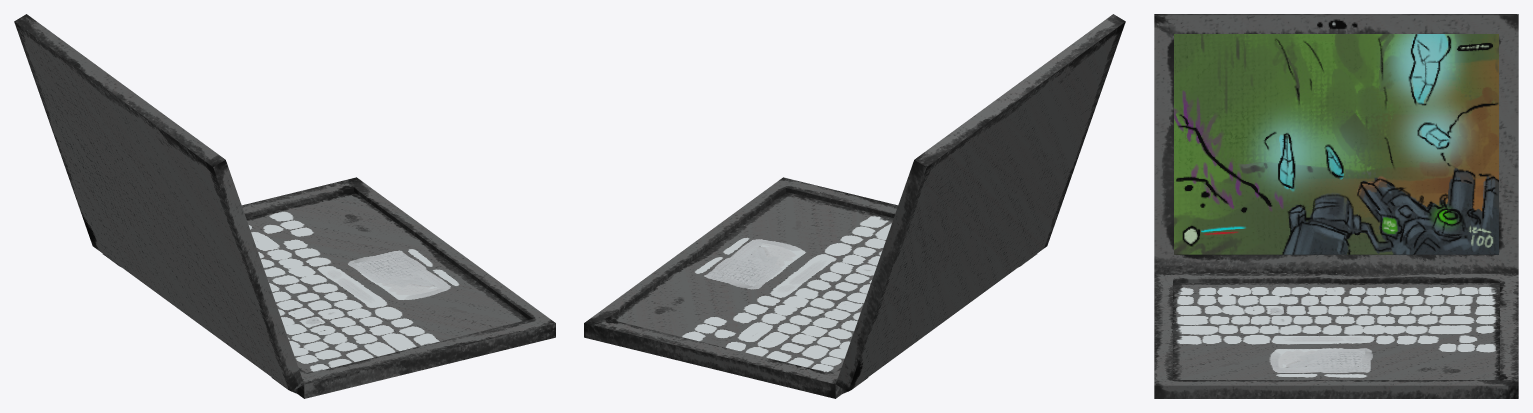
The model's file is laptop.fbx.
The picture shows the model from 3 angles, left to right: view 1: azimuth 30°, elevation 25°; view 2: azimuth 150°, elevation 25°; view 3: azimuth 270°, elevation 25°; orthographic projection. The views are drawn at different scales.
Parts seen in each view (by area): view 1: Plane; view 2: Plane; view 3: Plane.
Boxes of the visible parts, x1=… form: Plane: x1=14, y1=14, x2=555, y2=398; Plane: x1=584, y1=14, x2=1125, y2=398; Plane: x1=1154, y1=14, x2=1518, y2=398.
Size of the model in its own units: 53.32 by 38.43 by 53.67.
1 material, 1 textured.
